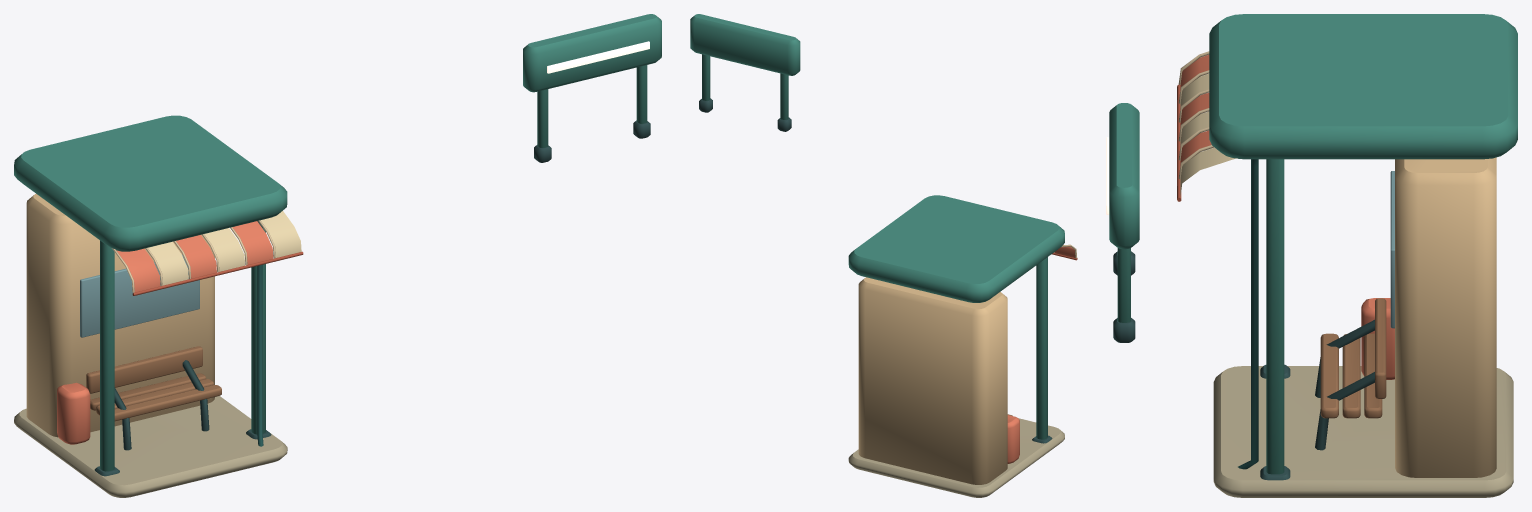
The model's file is tropical_parking_4.glb.
The picture shows the model from 3 angles, left to right: view 1: azimuth 30°, elevation 25°; view 2: azimuth 150°, elevation 25°; view 3: azimuth 270°, elevation 25°; orthographic projection. The views are drawn at different scales.
Parts seen in each view (by area): view 1: TropicalParking4; view 2: TropicalParking4; view 3: TropicalParking4.
Boxes of the visible parts, left/top/right/bottom form: TropicalParking4: left=14, top=14, right=661, bottom=497; TropicalParking4: left=690, top=14, right=1077, bottom=497; TropicalParking4: left=1106, top=14, right=1517, bottom=497.
Bounding box in the file's own units: 6.71 × 4.86 × 3.41.
